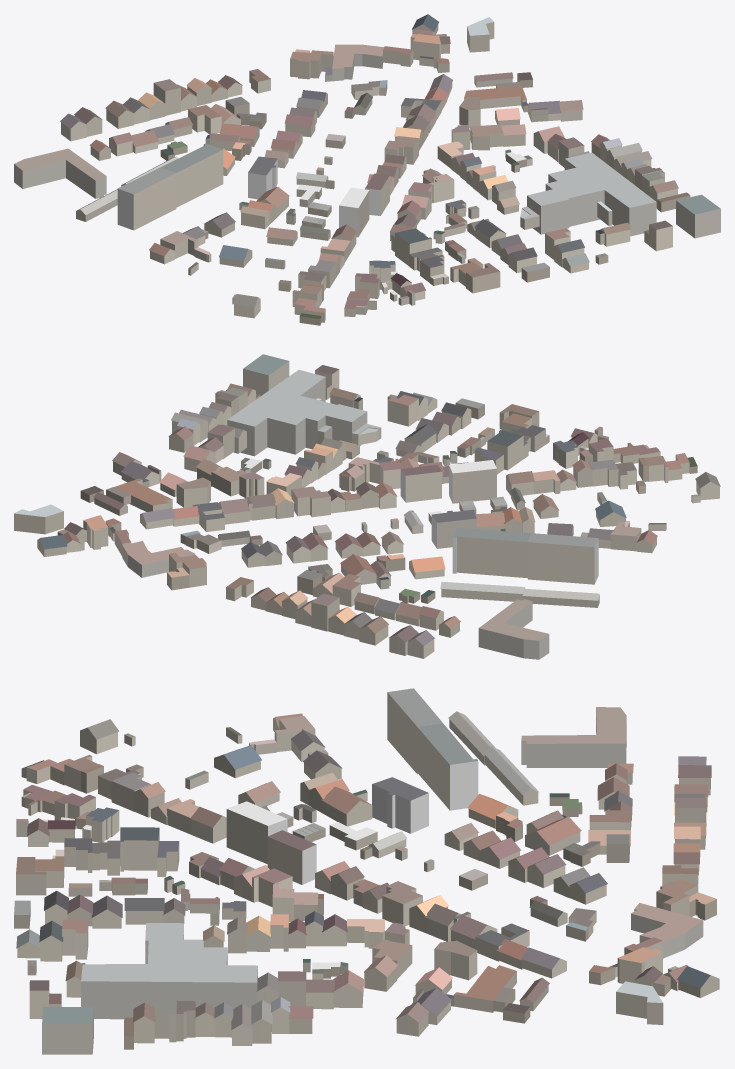
3 views of the same model, one above another, from view 1: azimuth 30°, elevation 25°; view 2: azimuth 150°, elevation 25°; view 3: azimuth 270°, elevation 25° (orthographic). The views are drawn at different scales.
Visible parts, largest first — view 1: tuile; view 2: tuile; view 3: tuile.
Boxes of the visible parts, bbox=[...] form: tuile: bbox=[14, 14, 720, 325]; tuile: bbox=[14, 354, 720, 659]; tuile: bbox=[14, 688, 719, 1054].
Size of the model in its own units: 269 by 27.74 by 254.
